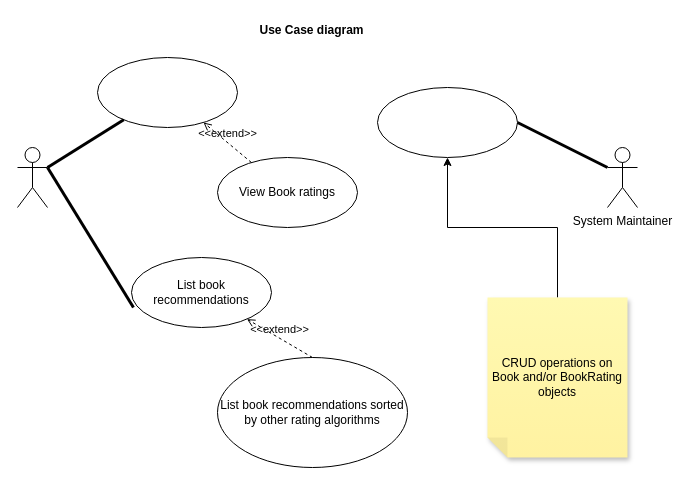
This 689x485 diagram has some shape labels left out. Each missing label, with the centre of its shape:
Update database: (x=447, y=122)
User: (x=32, y=177)
View Book details: (x=167, y=92)
